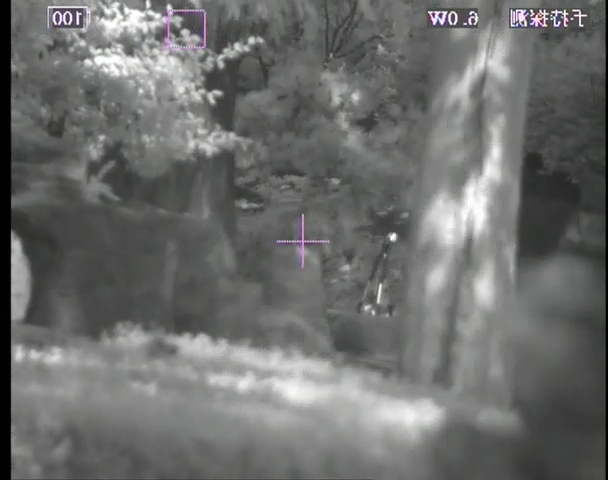my: (387, 231, 397, 243)
